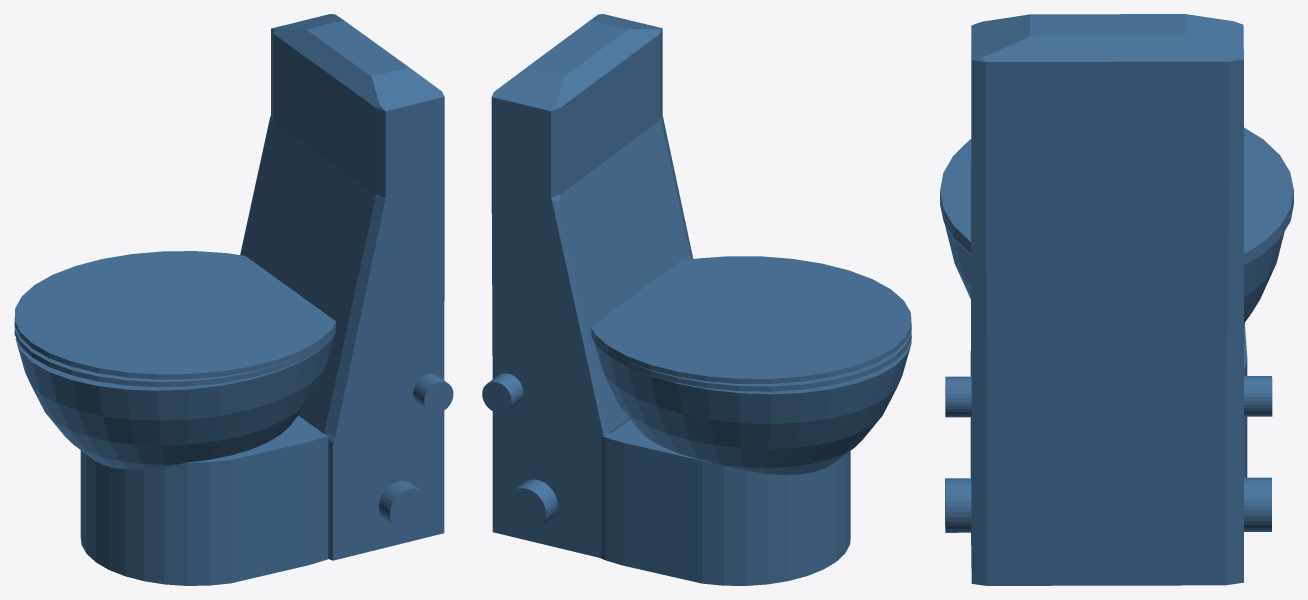
File: Saniflush.glb
3 renders of one model, left to right at view 1: azimuth 30°, elevation 25°; view 2: azimuth 150°, elevation 25°; view 3: azimuth 270°, elevation 25°, orthographic. The views are drawn at different scales.
Parts seen in each view (by area): view 1: Product9; view 2: Product9; view 3: Product9.
Boxes of the visible parts, x1,y1,x2,y2 form: Product9: [14, 14, 453, 585]; Product9: [482, 14, 911, 585]; Product9: [940, 14, 1293, 585].
Bounding box in the file's own units: 3.62 × 4.39 × 2.6.
